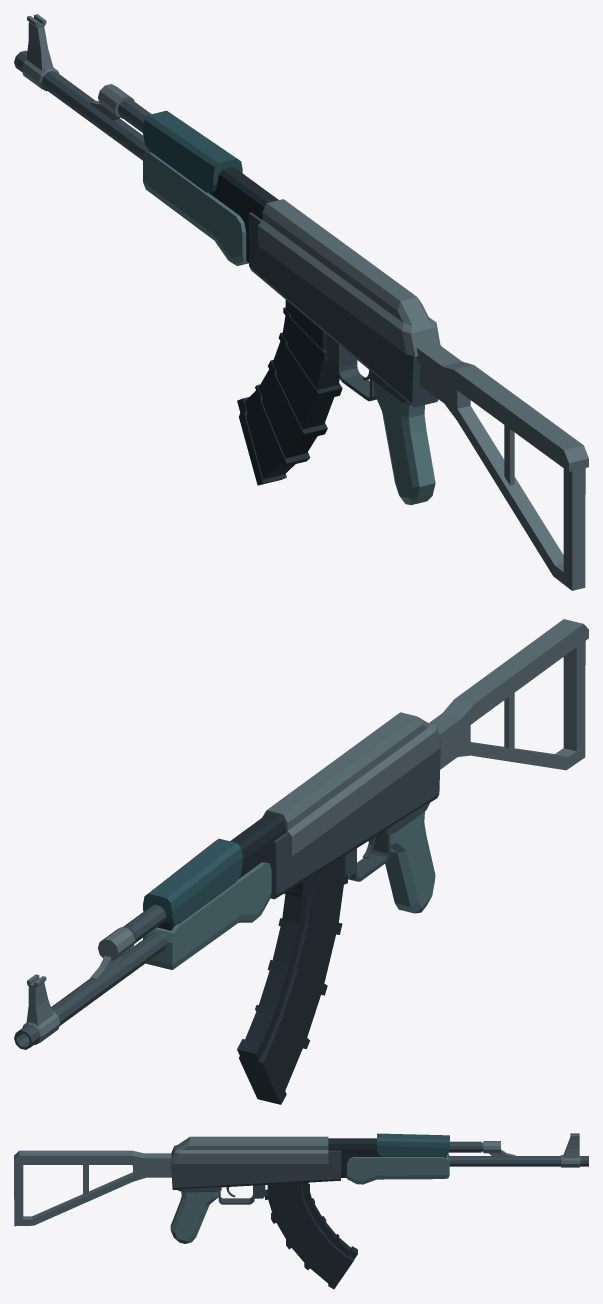
Rendered from vandal.glb.
3 renders of one model, top to bottom at view 1: azimuth 30°, elevation 25°; view 2: azimuth 150°, elevation 25°; view 3: azimuth 270°, elevation 25°, orthographic. The views are drawn at different scales.
Parts seen in each view (by area): view 1: vandal; view 2: vandal; view 3: vandal.
Part boxes in pixels (box(x1,y1,x2,y2)): vandal: box(14, 14, 588, 590); vandal: box(14, 619, 588, 1104); vandal: box(14, 1133, 588, 1289).
Size of the model in its own units: 0.0568 by 0.4644 by 1.59.
